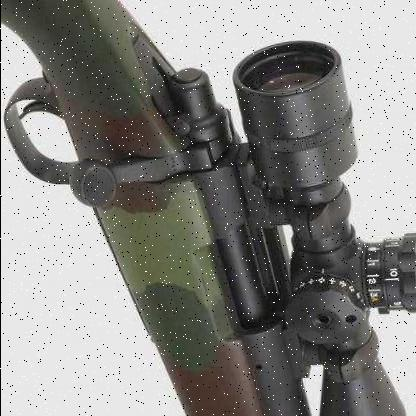rifle: (1, 0, 408, 369)
